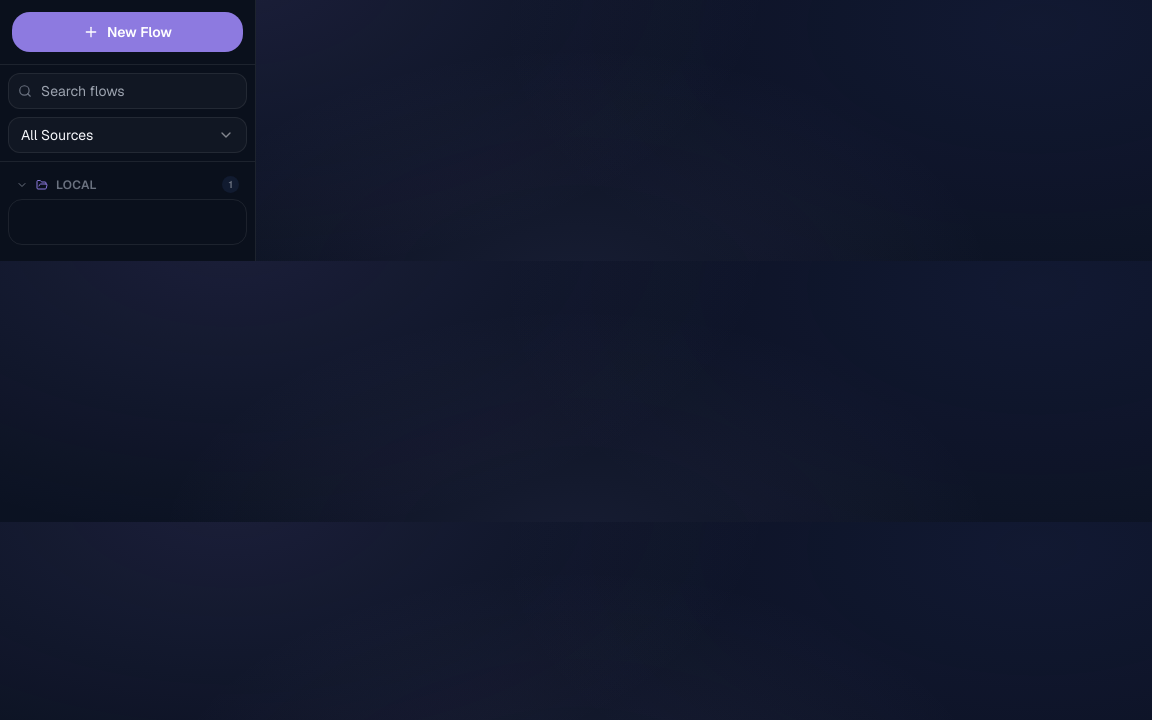
Test case: redesigned app shell › shows Sidebar empty state after filtering
Type "missing" into the field with placeholder "Search flows" at (128, 91), box x1=8 y1=73 x2=247 y2=109
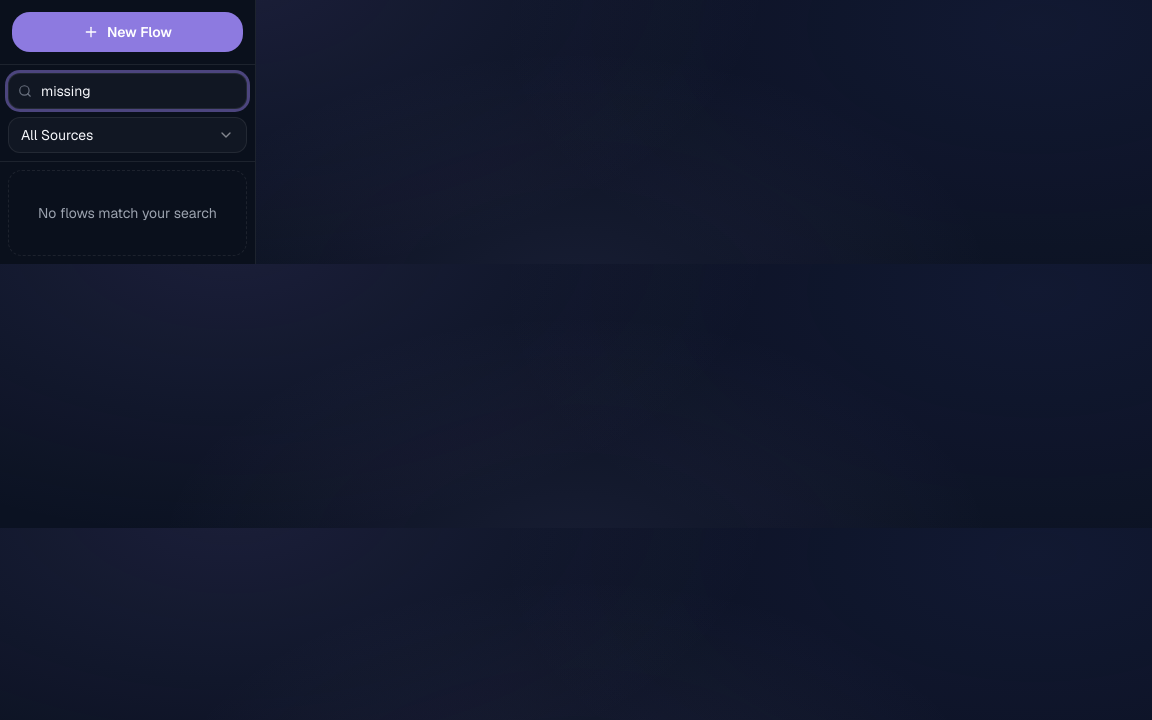
Expected: the text "No flows match your search" is shown, x1=8 y1=170 x2=247 y2=256
